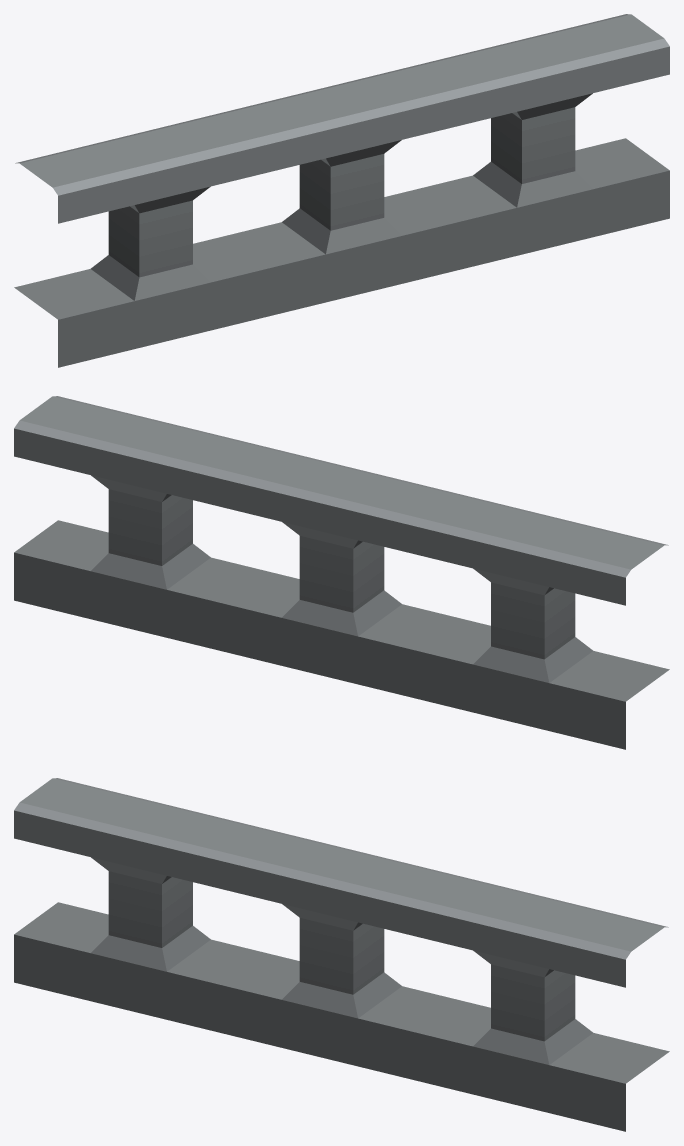
The model's file is decor-barrier.glb.
3 renders of one model, top to bottom at view 1: azimuth 30°, elevation 25°; view 2: azimuth 150°, elevation 25°; view 3: azimuth 330°, elevation 25°, orthographic.
Visible parts, largest first — view 1: barrier; view 2: barrier; view 3: barrier.
Boxes of the visible parts, bbox=[...] form: barrier: bbox=[14, 14, 669, 367]; barrier: bbox=[14, 396, 669, 749]; barrier: bbox=[14, 778, 669, 1131].
Bounding box in the file's own units: 4 × 1.1 × 0.5.
1 material, 1 textured.
